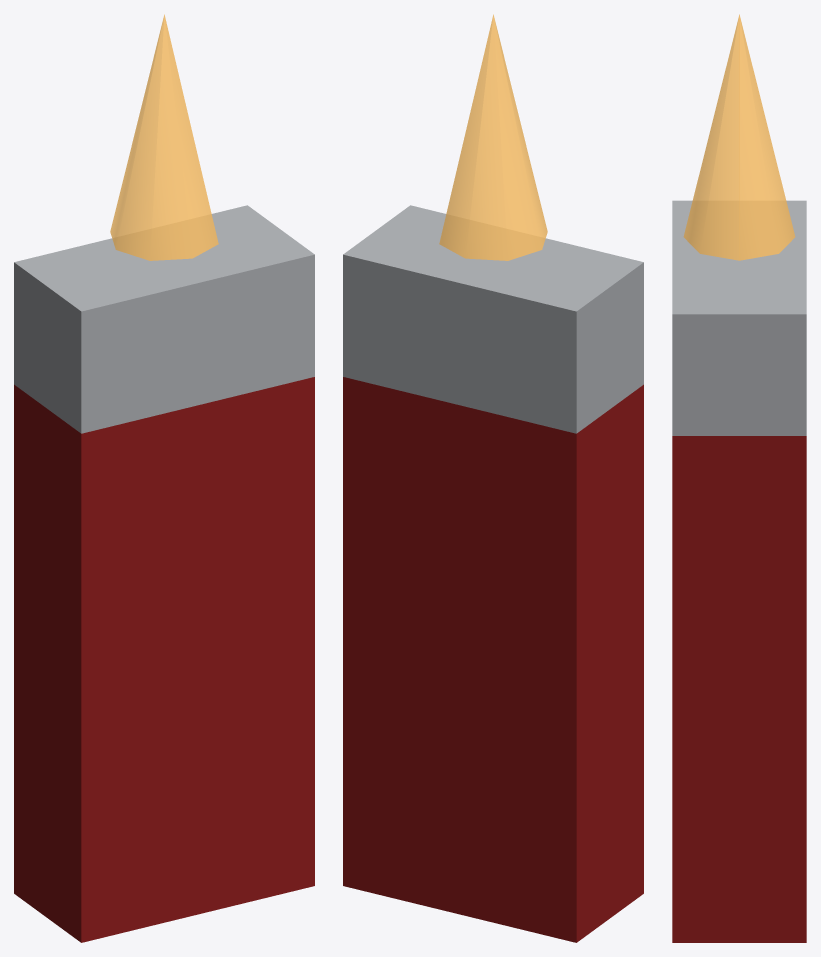
File: prop_lighter.glb
The picture shows the model from 3 angles, left to right: view 1: azimuth 30°, elevation 25°; view 2: azimuth 150°, elevation 25°; view 3: azimuth 270°, elevation 25°; orthographic projection.
Parts seen in each view (by area): view 1: prop_lighter; view 2: prop_lighter; view 3: prop_lighter.
Boxes of the visible parts, box(x1,y1,x2,y2) form: prop_lighter: box(14, 14, 314, 942); prop_lighter: box(343, 14, 643, 942); prop_lighter: box(672, 14, 806, 942).
Bounding box in the file's own units: 0.024 × 0.086 × 0.012.
